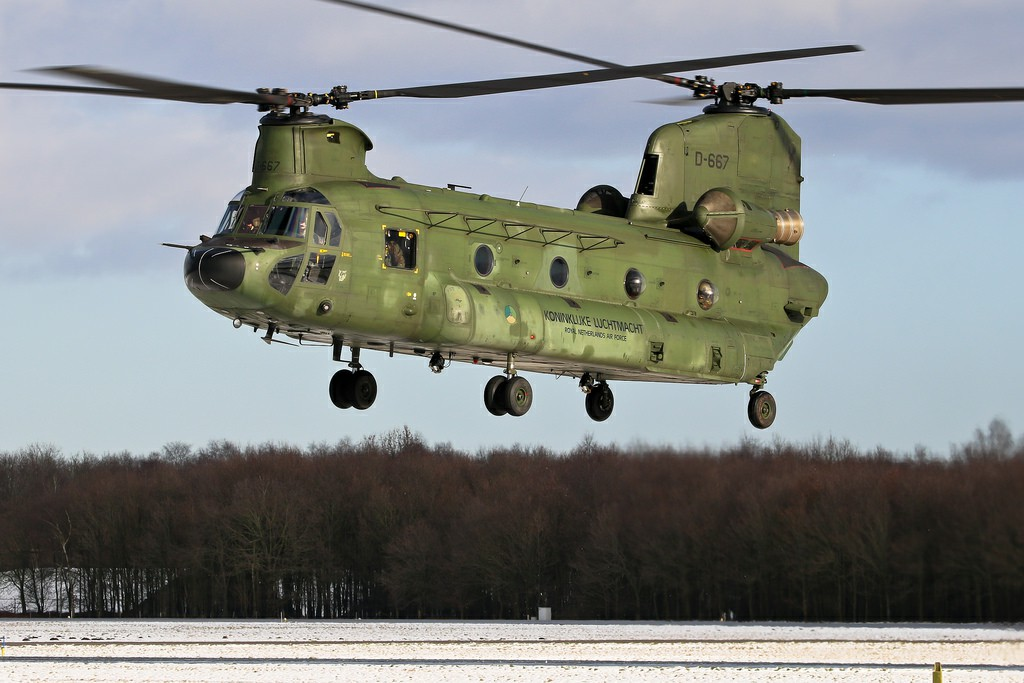chinook: (118, 22, 1000, 424)
